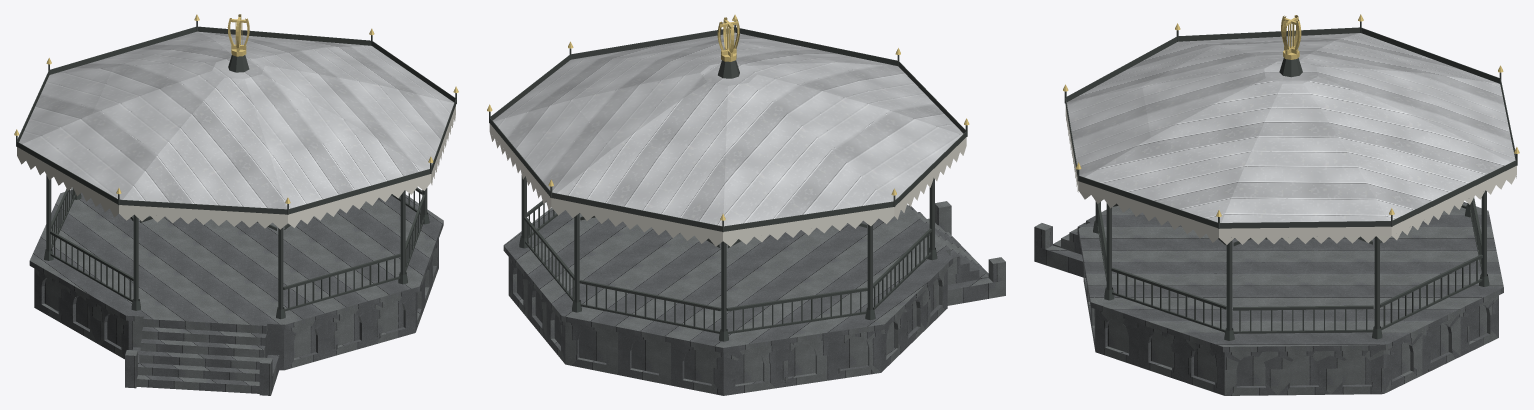
3 views of the same model, side by side, from view 1: azimuth 30°, elevation 25°; view 2: azimuth 150°, elevation 25°; view 3: azimuth 270°, elevation 25° (orthographic). The views are drawn at different scales.
Parts seen in each view (by area): view 1: bldg_117235287_landmark; view 2: bldg_117235287_landmark; view 3: bldg_117235287_landmark.
Boxes of the visible parts, left/top/right/bottom form: bldg_117235287_landmark: left=14, top=14, right=458, bottom=395; bldg_117235287_landmark: left=487, top=14, right=1005, bottom=395; bldg_117235287_landmark: left=1034, top=14, right=1519, bottom=395.
Bounding box in the file's own units: 13.47 × 9.16 × 13.93.
Materials: 5 (2 with a texture image).
